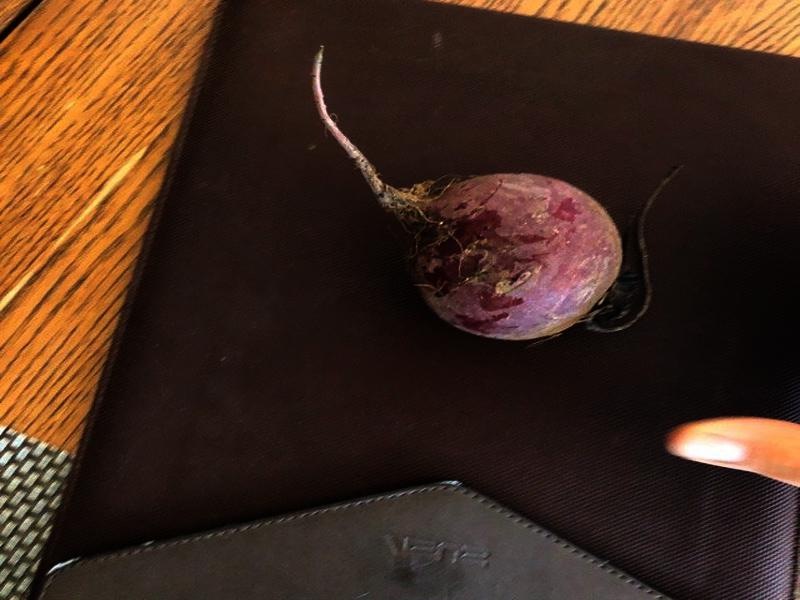Beet: (310, 47, 679, 339)
